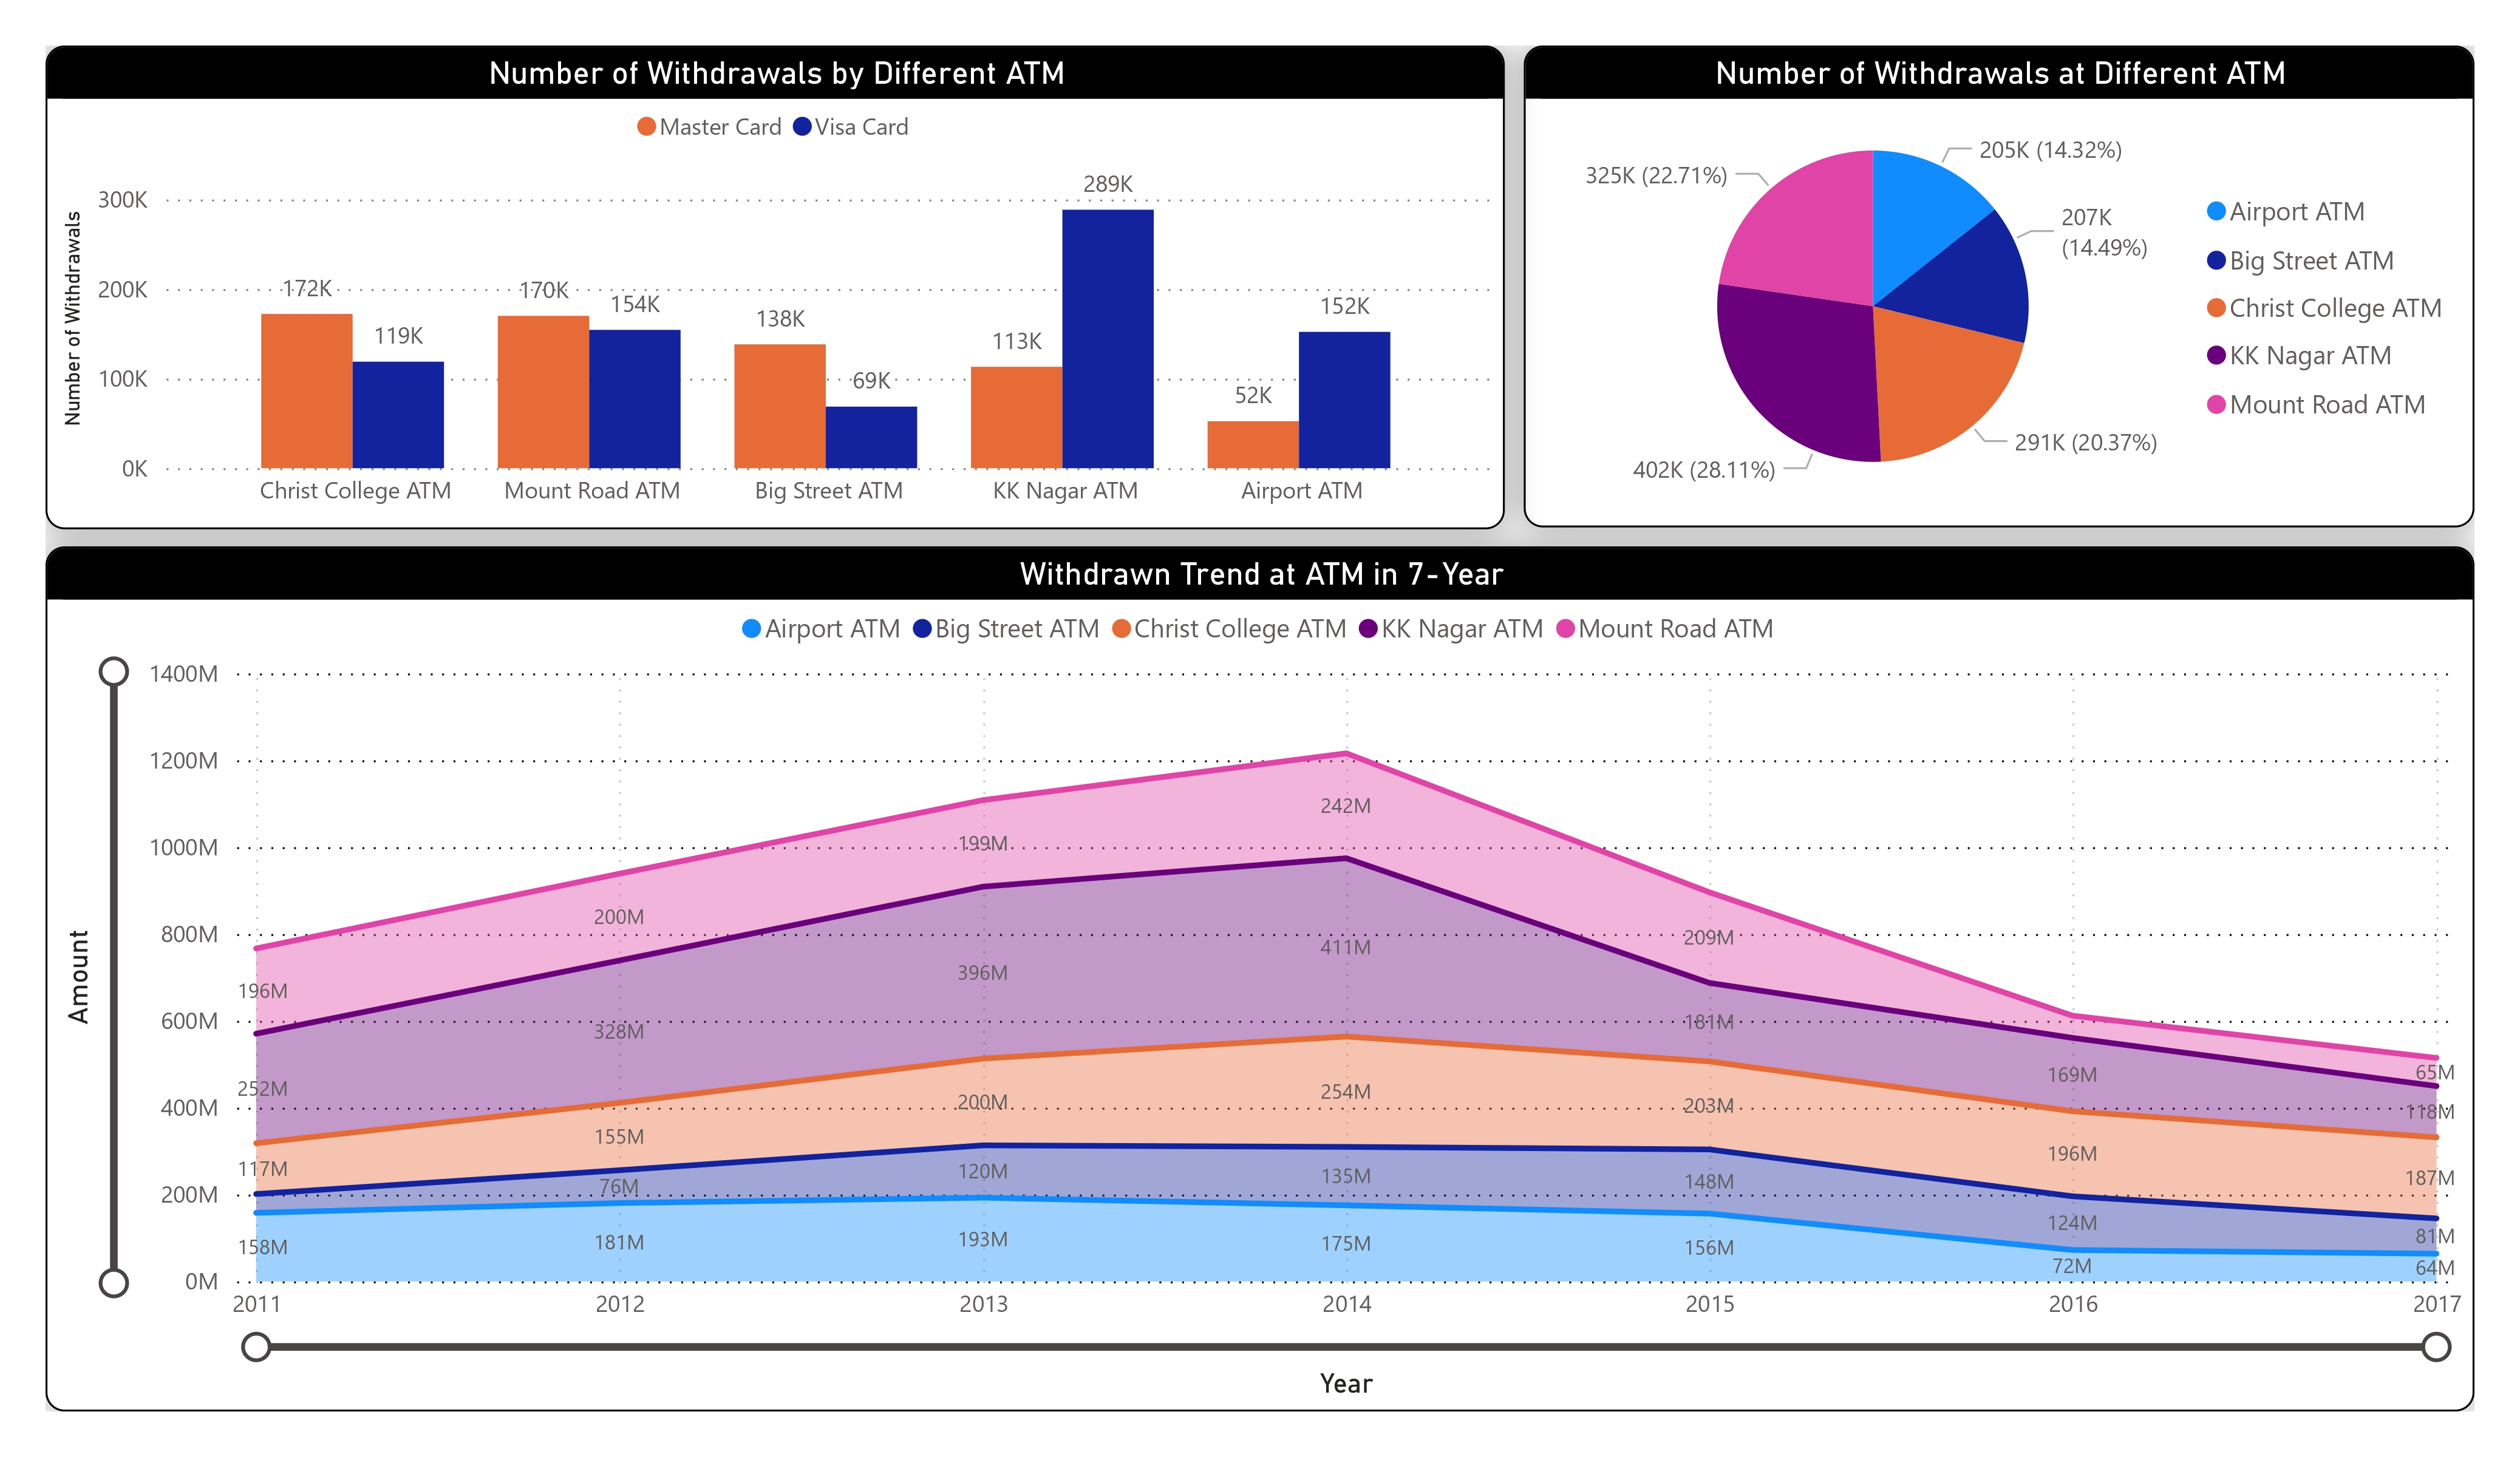

Layout of this report page (visuals, bound fields, positions):
{"tool":"powerbi","page":{"name":"ATM Performance","canvas":[1280,720],"ordinal":1},"visuals":[{"type":"stackedAreaChart","title":"Withdrawn Trend at ATM in 7-Year","fields":{"Category":["Transaction Dataset.Transaction Date.Variation.Date Hierarchy.Year"],"Series":["Transaction Dataset.ATM Name"],"Y":["Sum(Transaction Dataset.Amount Withdrawn)"]},"box":[0,264,1279.9,456],"z":0},{"type":"pieChart","title":"Number of Withdrawals at Different ATM","fields":{"Y":["Sum(Transaction Dataset.No of Withdrawals)"],"Series":["Transaction Dataset.ATM Name"]},"box":[778.7,0,501.2,254.3],"z":1000},{"type":"clusteredColumnChart","title":"Number of Withdrawals by Different ATM","fields":{"Category":["Transaction Dataset.ATM Name"],"Y":["Sum(Transaction Dataset.No of Withdrawals-Master Card)","Sum(Transaction Dataset.No of Withdrawals-Visa Card)"]},"box":[0,0,768.7,254.5],"z":2000}]}

Visuals, with their boxes on the page's 1280x720 design canvas (x1, y1, x2, y2). These are canvas units, not pixel positions in the 2520x1457 screenshot, which may show the page scaled, cropped or inside an application window:
"Withdrawn Trend at ATM in 7-Year" stackedAreaChart: region(0, 264, 1280, 720)
"Number of Withdrawals at Different ATM" pieChart: region(779, 0, 1280, 254)
"Number of Withdrawals by Different ATM" clusteredColumnChart: region(0, 0, 769, 254)
